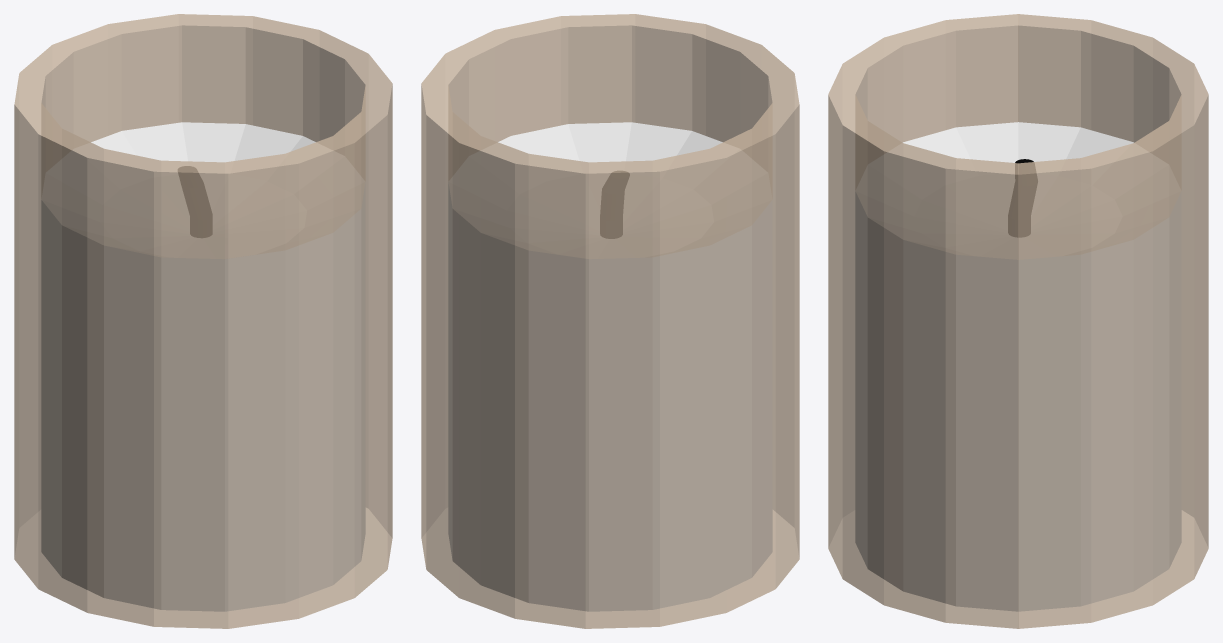
File: Candle1.fbx
3 renders of one model, left to right at view 1: azimuth 30°, elevation 25°; view 2: azimuth 150°, elevation 25°; view 3: azimuth 270°, elevation 25°, orthographic.
Parts seen in each view (by area): view 1: Candle1; view 2: Candle1; view 3: Candle1.
Part boxes in pixels (<box>): Candle1: <box>14,14,392,628</box>; Candle1: <box>421,14,799,628</box>; Candle1: <box>828,14,1208,628</box>.
Size of the model in its own units: 29.57 by 38.94 by 29.57.
